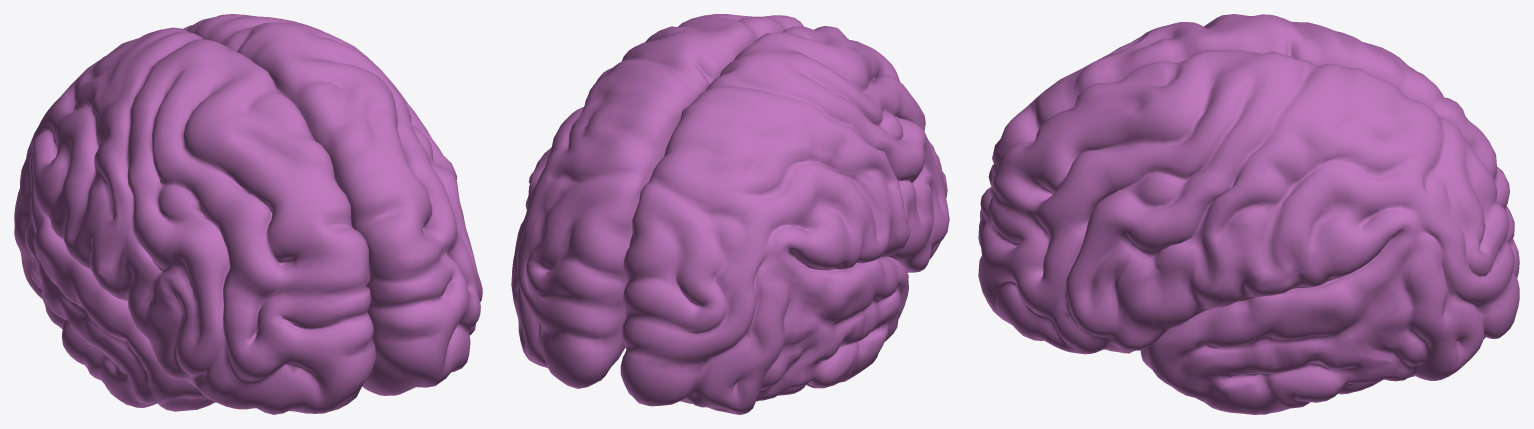
Rendered from brain3.glb.
3 renders of one model, left to right at view 1: azimuth 30°, elevation 25°; view 2: azimuth 150°, elevation 25°; view 3: azimuth 270°, elevation 25°, orthographic. The views are drawn at different scales.
Visible parts, largest first — view 1: V1_1:jianmian_03:Group1; view 2: V1_1:jianmian_03:Group1; view 3: V1_1:jianmian_03:Group1.
Part boxes in pixels (box(x1,y1,x2,y2)): V1_1:jianmian_03:Group1: box(14, 14, 482, 414); V1_1:jianmian_03:Group1: box(511, 14, 949, 414); V1_1:jianmian_03:Group1: box(978, 14, 1519, 414).
Size of the model in its own units: 0.9654 by 0.8898 by 1.37.
